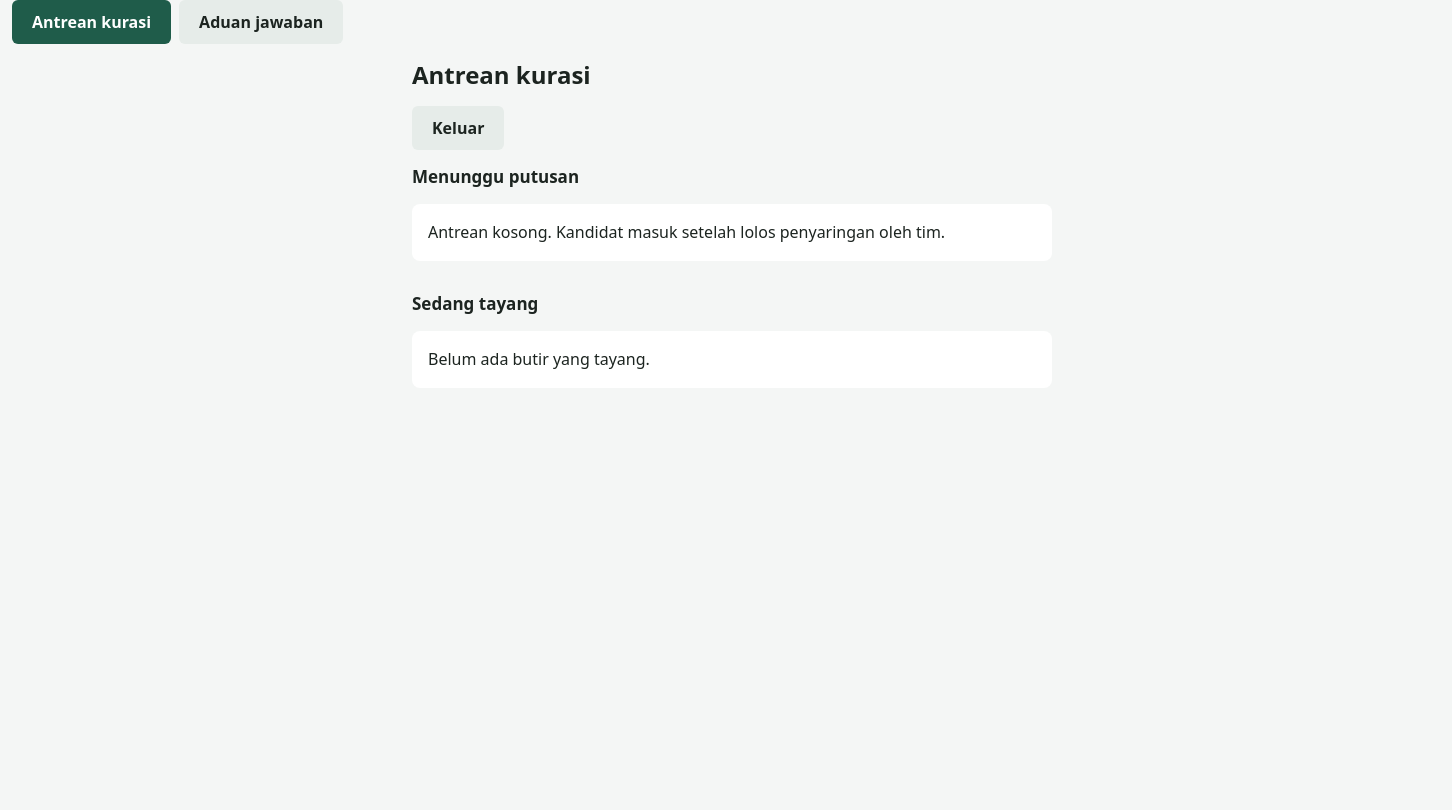
Test: S-17 › tindak lanjut terkirim dan aduan keluar dari daftar
The image size is (1452, 810).
Check: the heading "Antrean kurasi" is shown, box [412,58,591,91]
Click the button "Aduan jawaban".
click(261, 22)  # box [179,0,343,44]
(page scrolled)
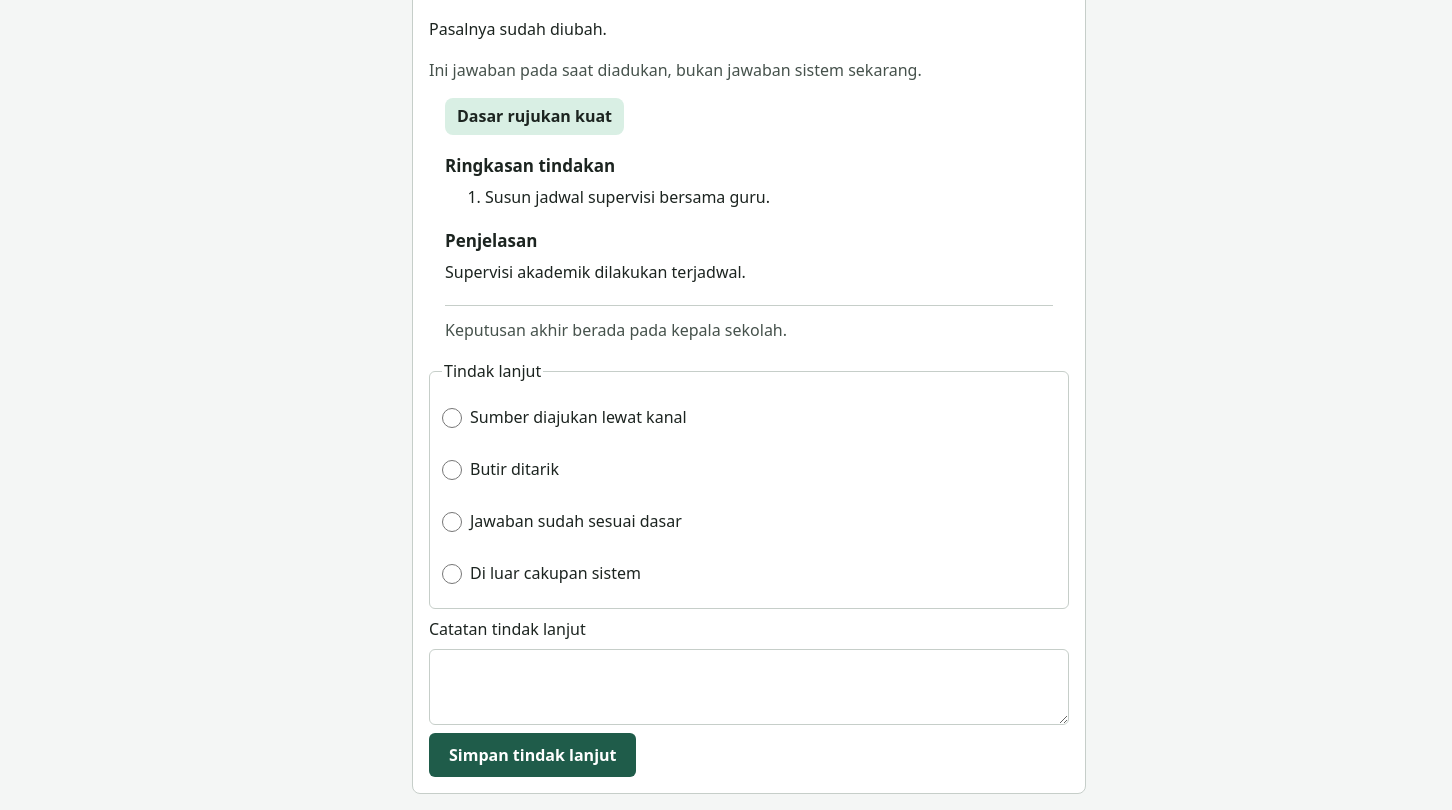
Click the radio button labelled "Jawaban sudah sesuai dasar".
click(452, 522)  # box [442,512,462,532]
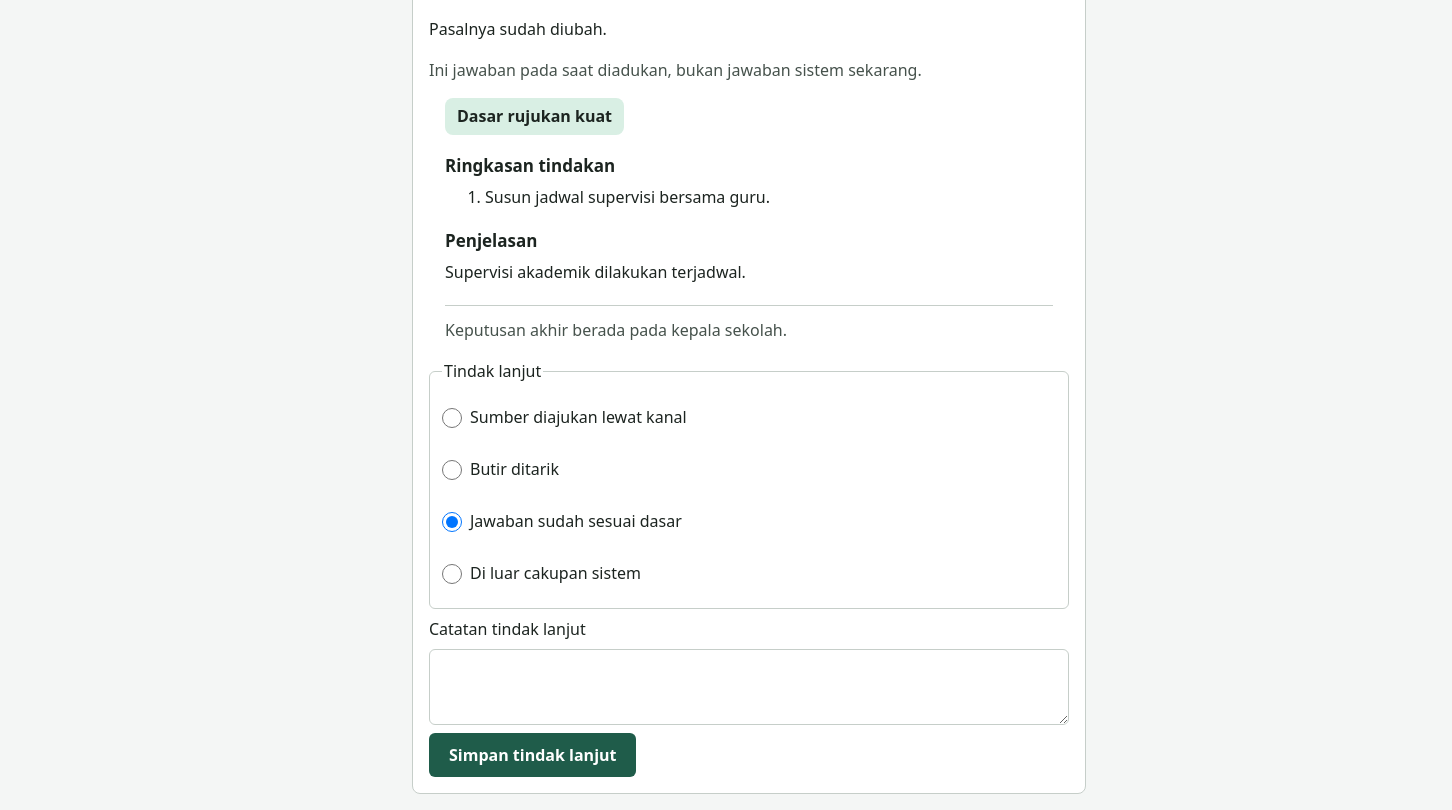
Type "Dasar hukumnya sudah sesuai." into the text box labelled "Catatan tindak lanjut".
click(749, 687); type("Dasar hukumnya sudah sesuai.")  # box [429,649,1069,725]
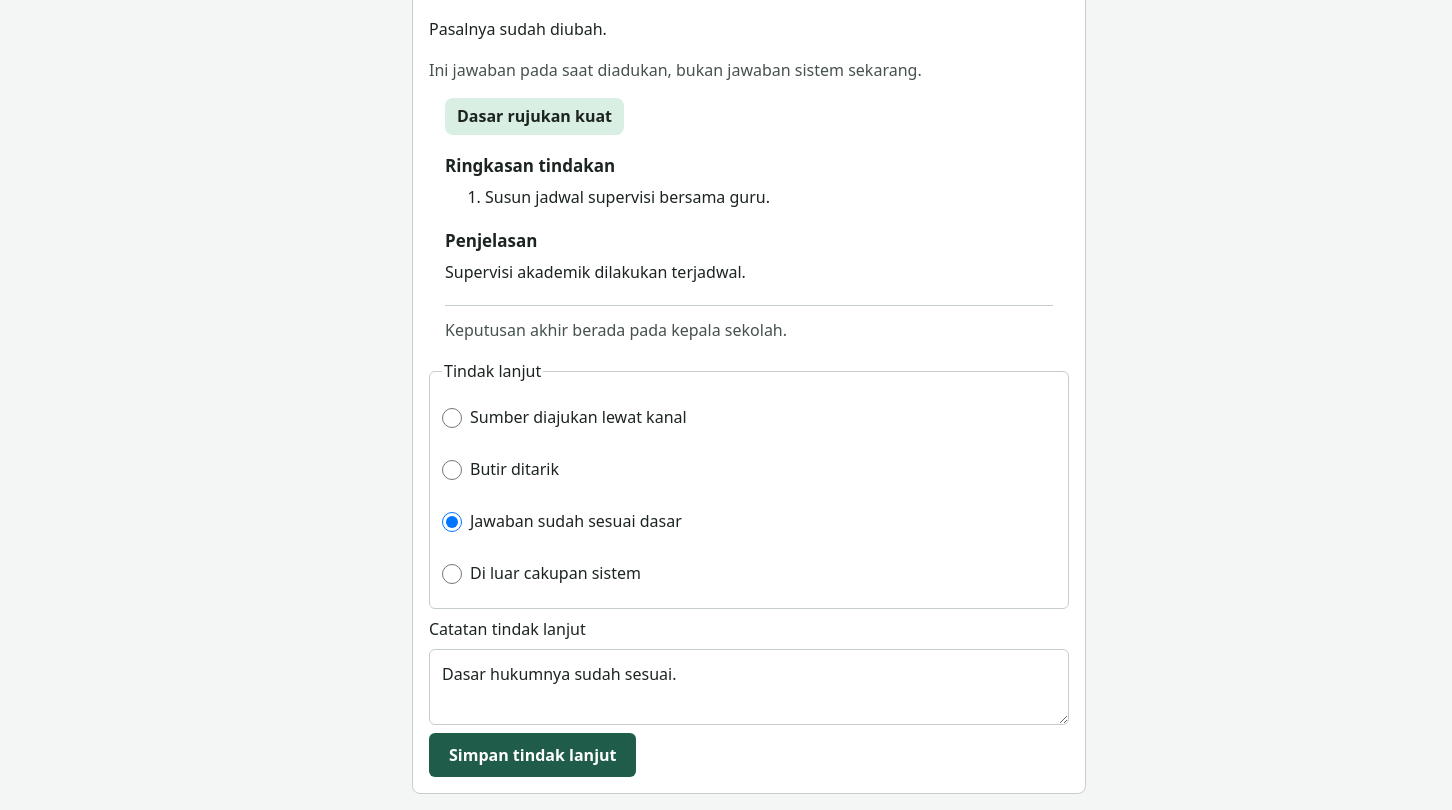
Click the button "Simpan tindak lanjut".
click(533, 755)  # box [429,733,636,777]
(page scrolled)
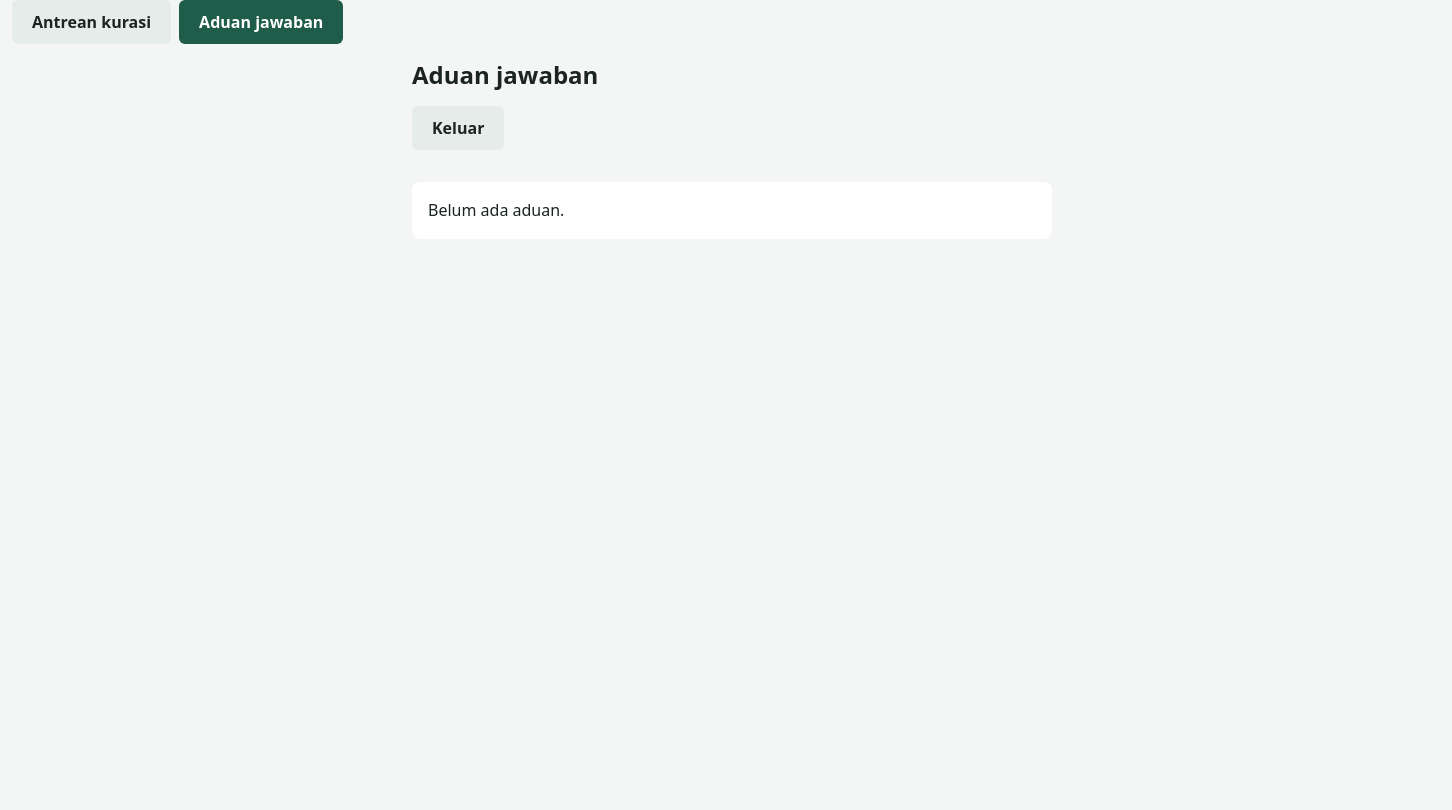
Check: the text "Belum ada aduan." is shown, box [412,182,1052,239]
